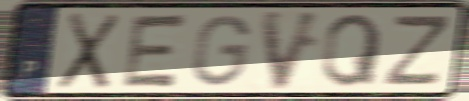E: (118, 11, 192, 90)
G: (189, 12, 253, 89)
Q: (319, 11, 385, 90)
V: (257, 7, 327, 93)
X: (54, 10, 124, 92)
Z: (379, 13, 455, 88)
